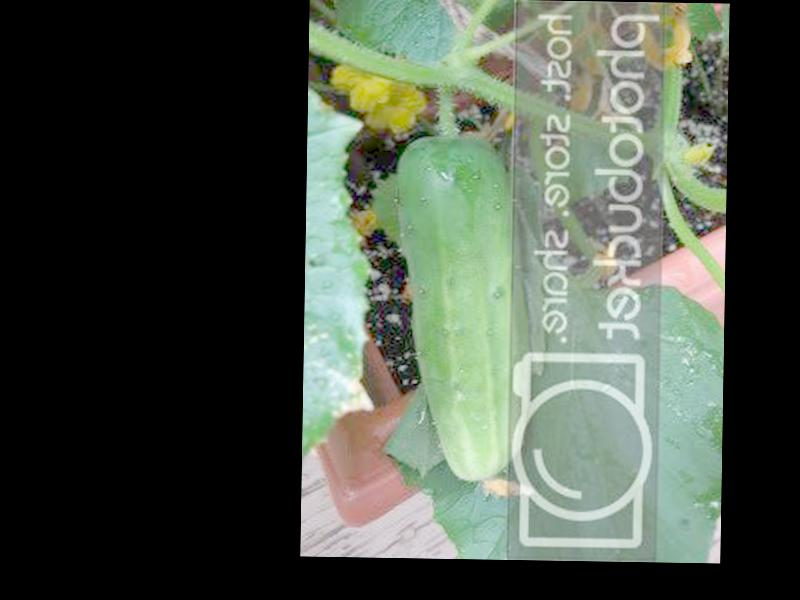Cucumber: (391, 138, 535, 485)
